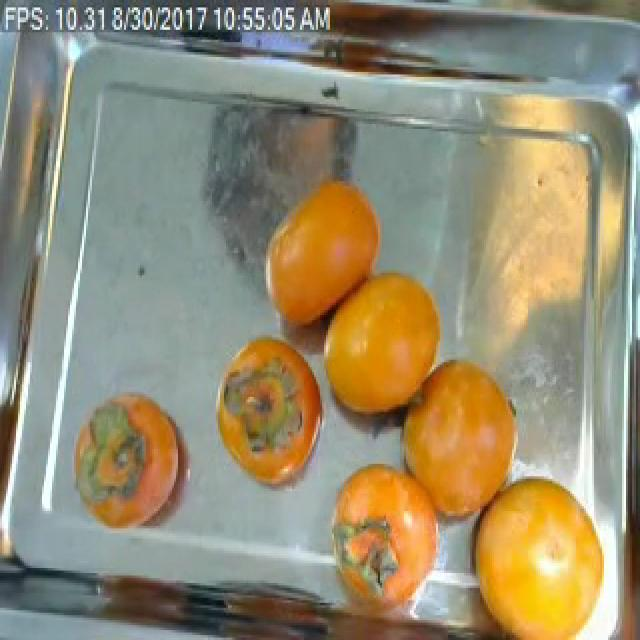Fruit: (448, 459, 614, 640), (382, 338, 532, 534), (318, 439, 458, 630), (312, 253, 454, 439), (252, 174, 398, 342), (66, 377, 204, 546), (206, 323, 332, 506), (86, 558, 202, 638)
